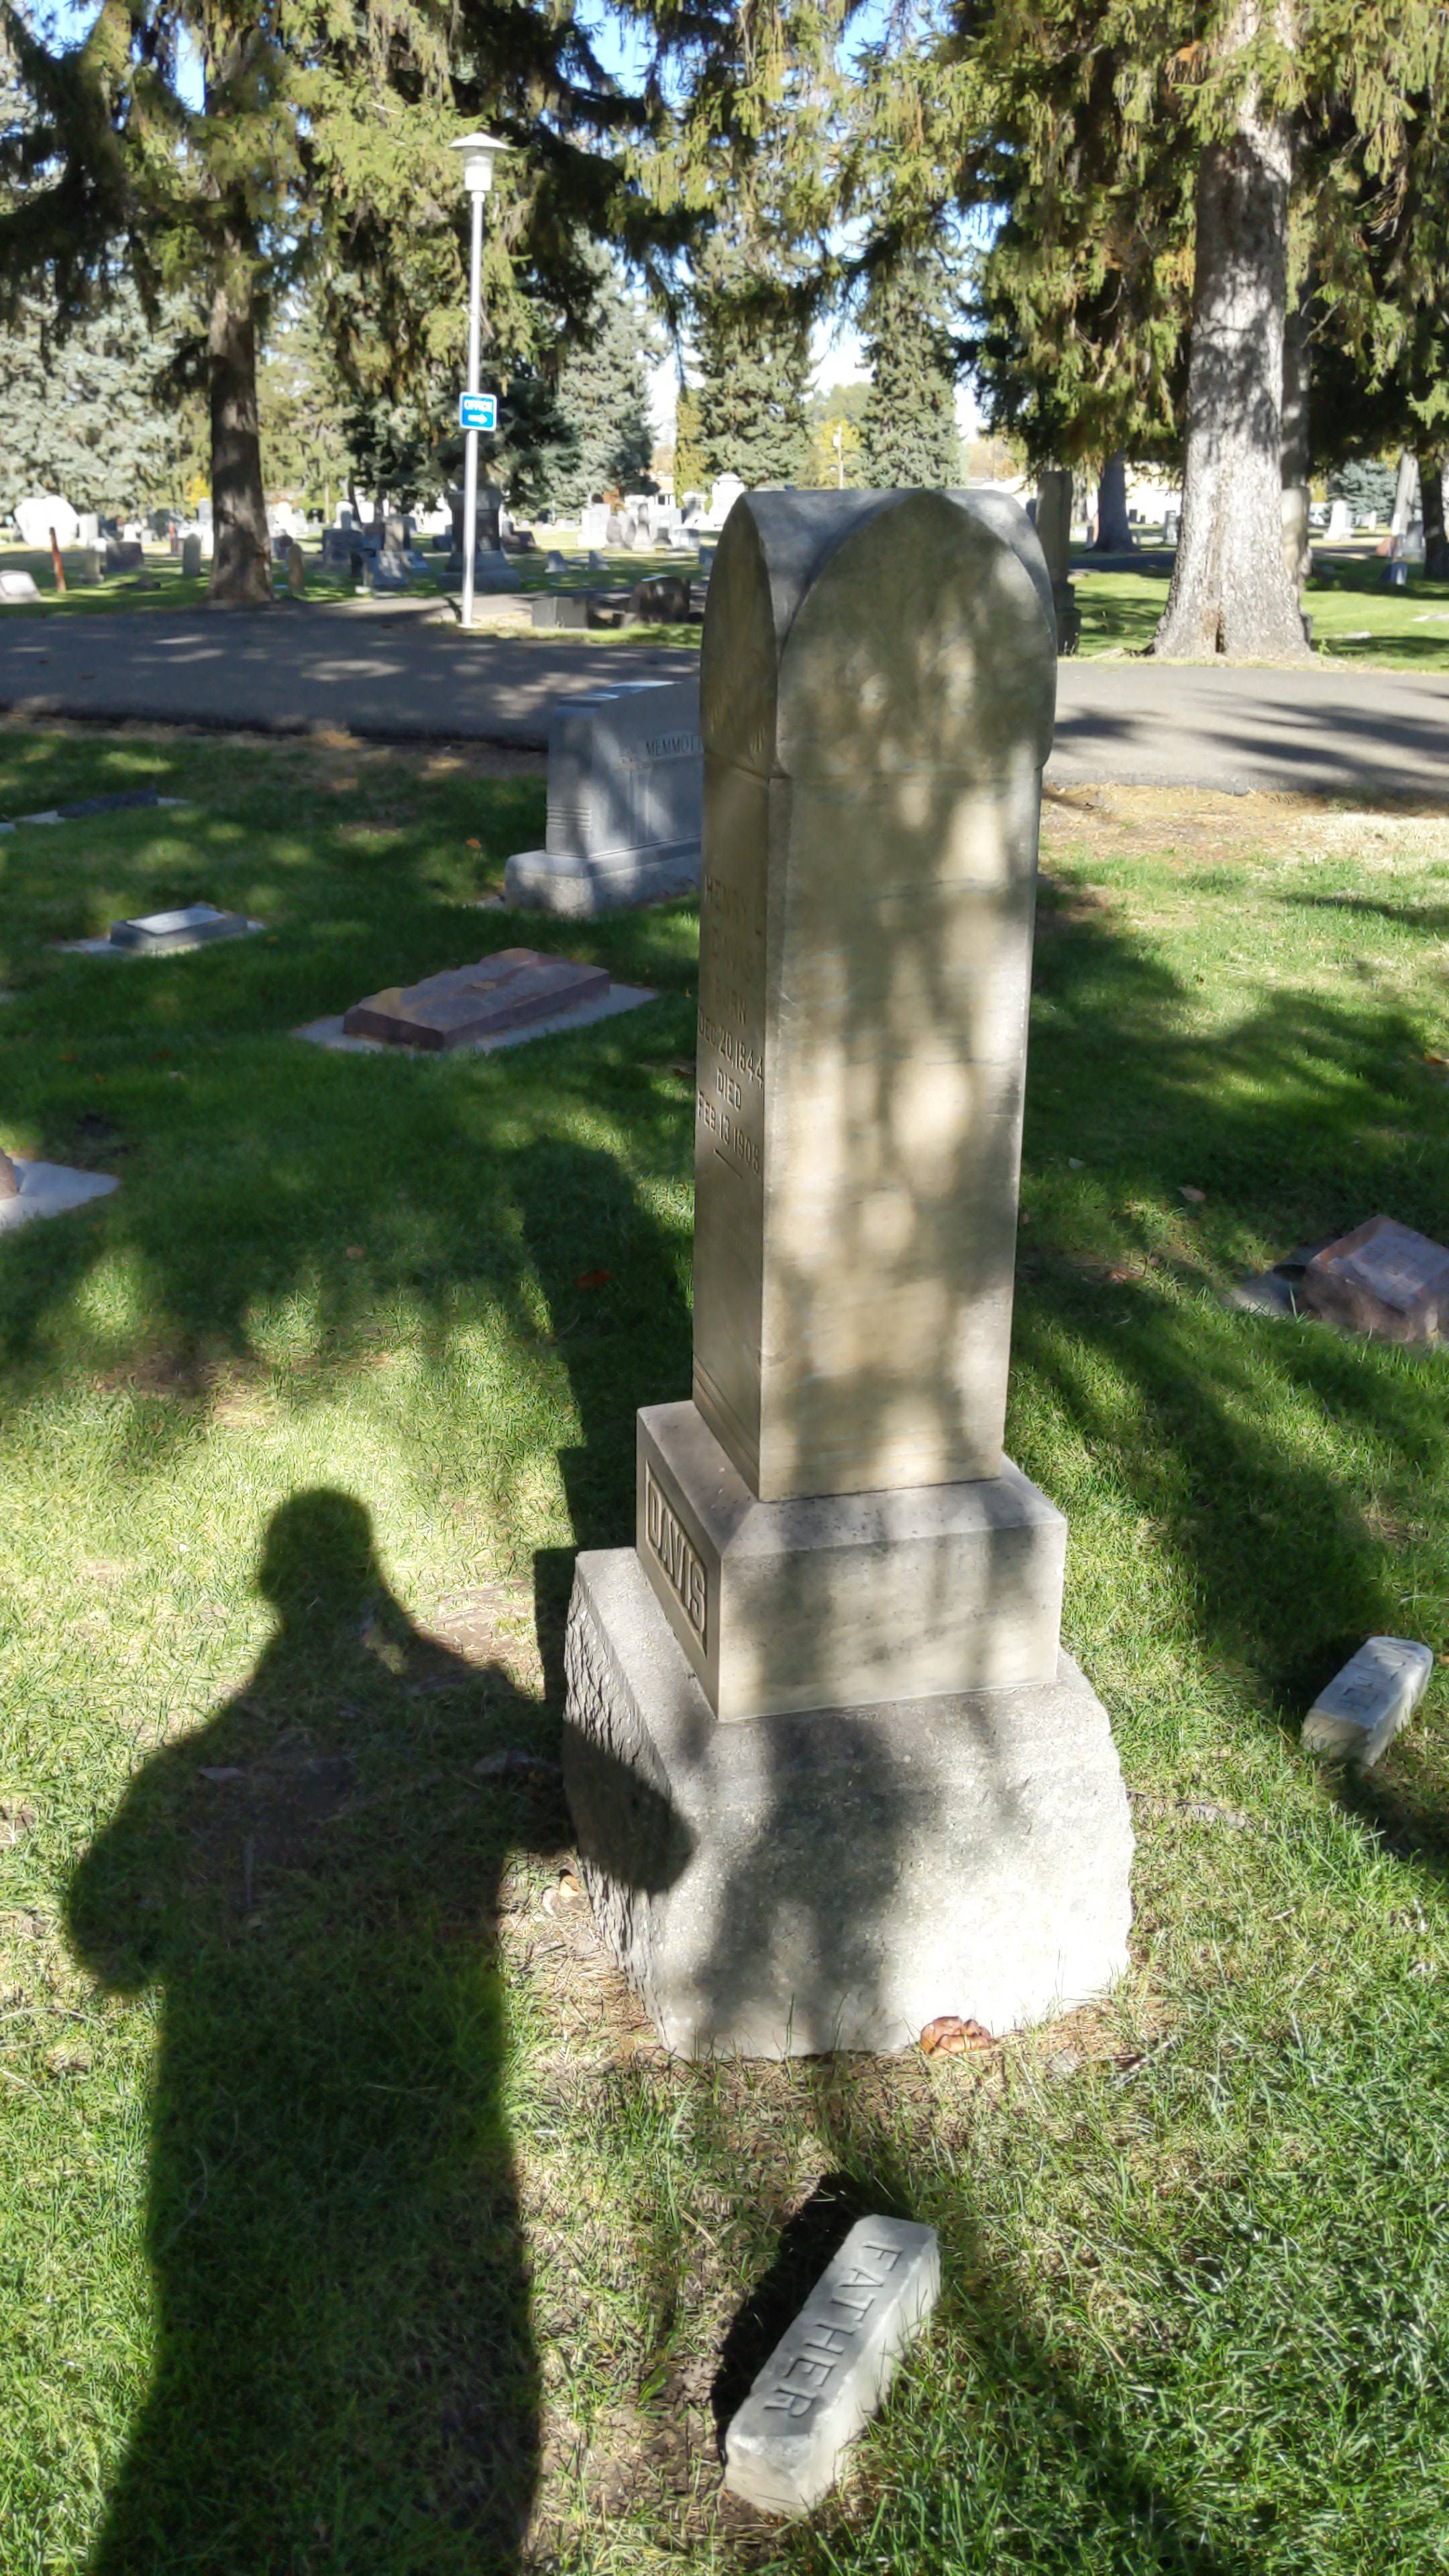obelisk: (633, 476, 1070, 1709)
